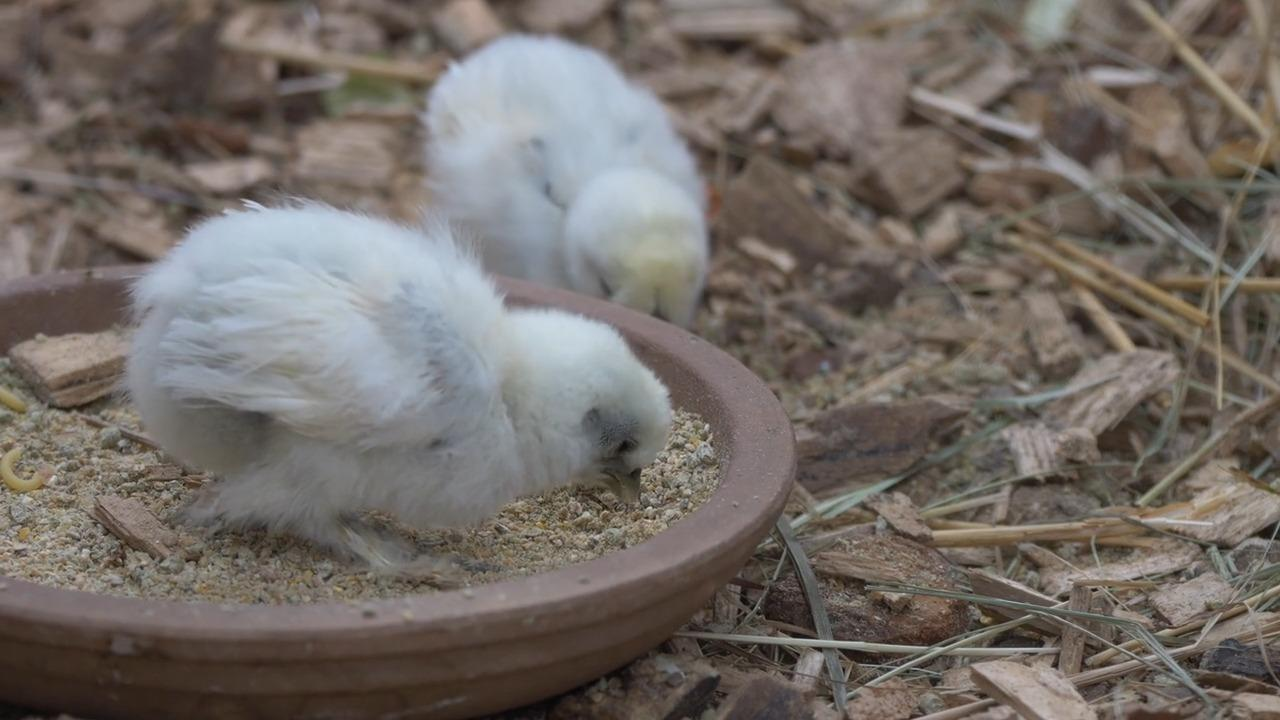Normal: (146, 209, 675, 577)
